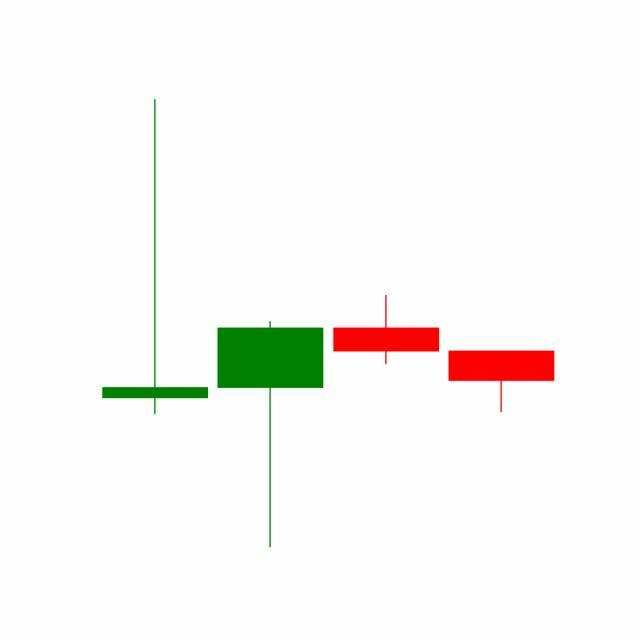Hammer: (444, 351, 560, 415)
